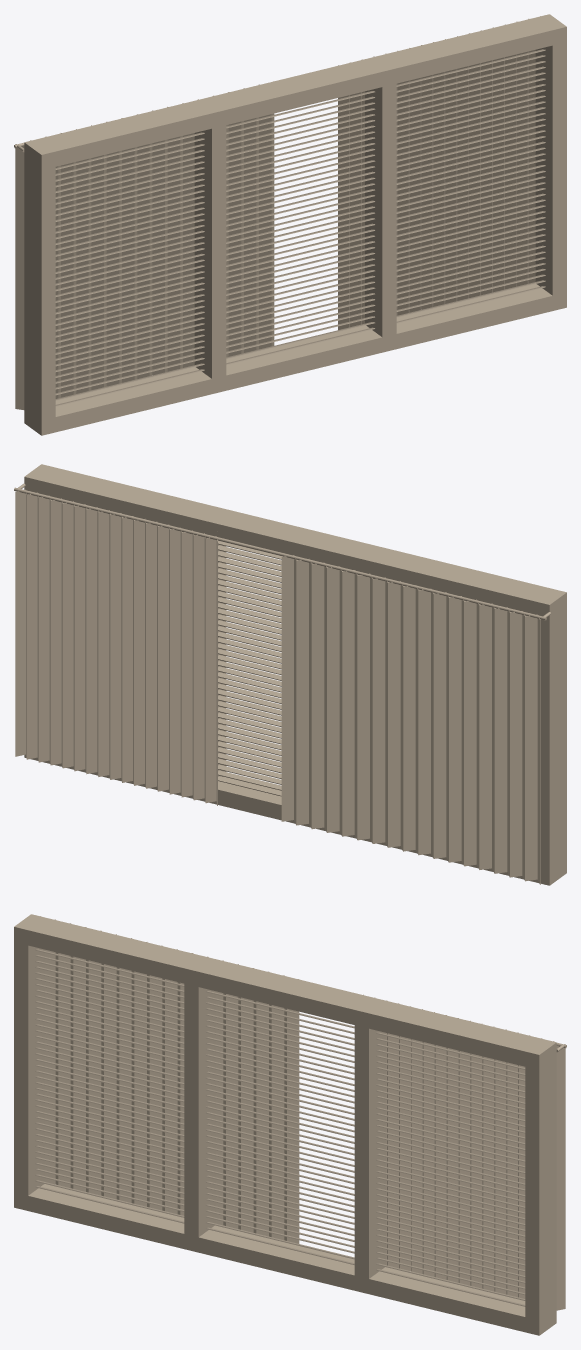
File: 3dcodebench_Window_seed0.glb
3 renders of one model, top to bottom at view 1: azimuth 30°, elevation 25°; view 2: azimuth 150°, elevation 25°; view 3: azimuth 330°, elevation 25°, orthographic.
Parts seen in each view (by area): view 1: object; view 2: object; view 3: object.
Boxes of the visible parts, box(x1,y1,x2,y2) form: object: box(14, 14, 566, 435); object: box(14, 464, 566, 885); object: box(14, 914, 566, 1335).
Bounding box in the file's own units: 3.98 × 2.01 × 0.3461.
